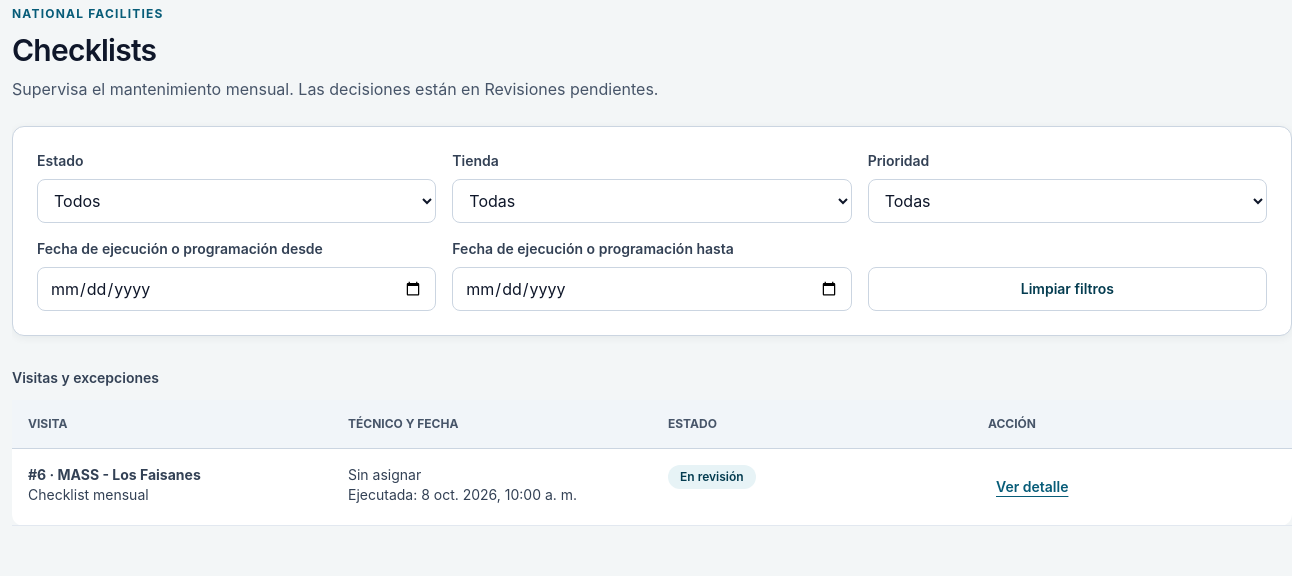
Test case: fecha y filtro de pending_approval distinguen ejecución real de programación
The width and height of the screenshot is (1292, 576).
Select "Finalizado" in the dropdown labelled "Estado": [237, 201] box [37,179,436,223]
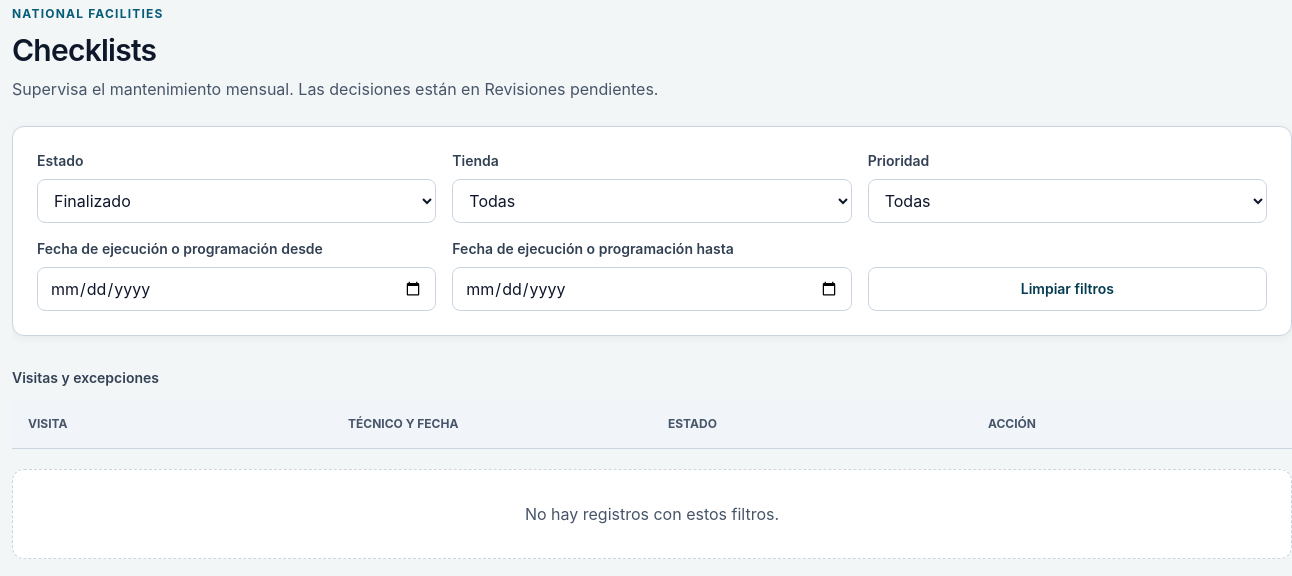
Expected: no links "Ver detalle" are shown
Select "En revisión" in the dropdown labelled "Estado": [237, 201] box [37,179,436,223]
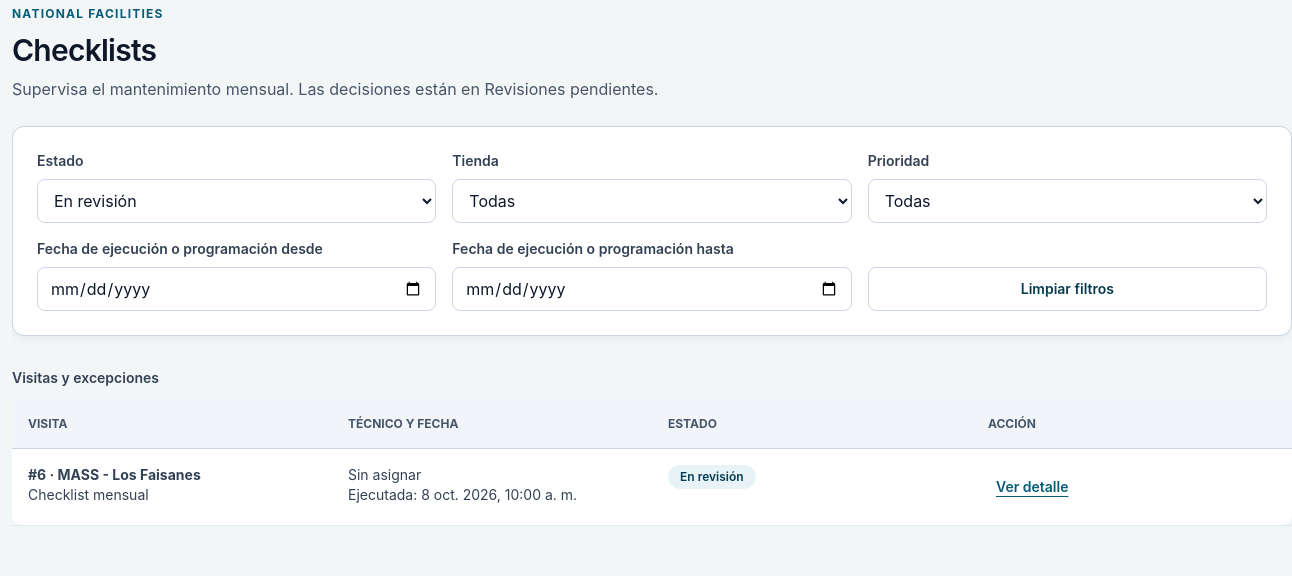
In the date field labelled "Fecha de ejecución o programación desde": [237, 289] box [37,267,436,311], type "2026-10-08"
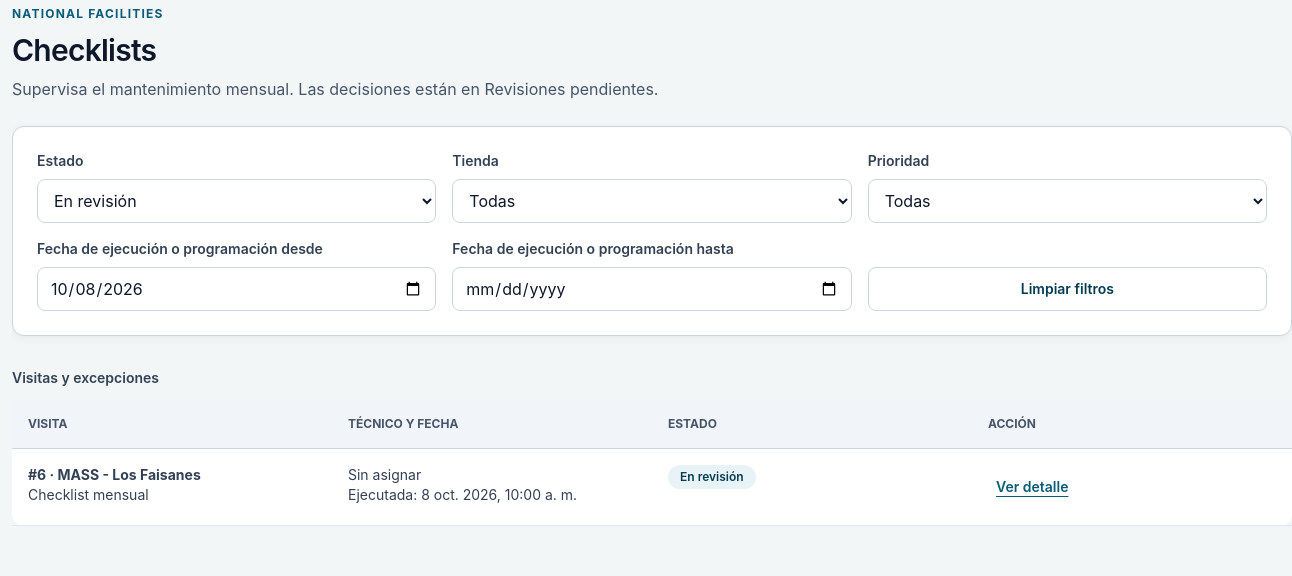
In the date field labelled "Fecha de ejecución o programación hasta": [652, 289] box [452,267,852,311], type "2026-10-08"
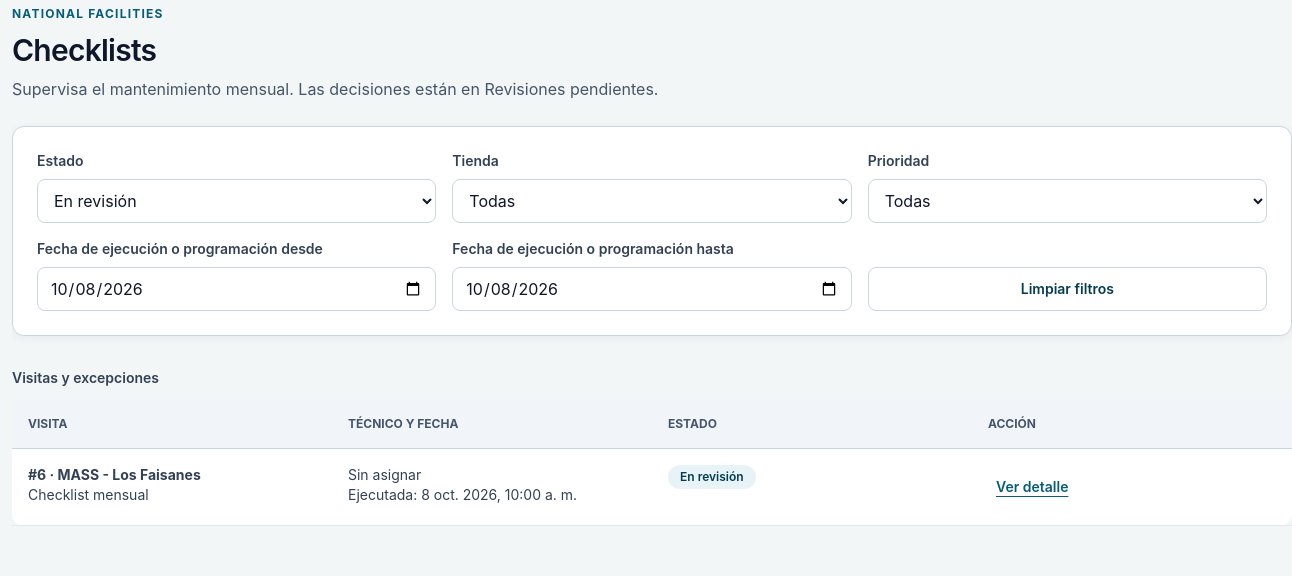
In the date field labelled "Fecha de ejecución o programación desde": [237, 289] box [37,267,436,311], type "2026-10-09"
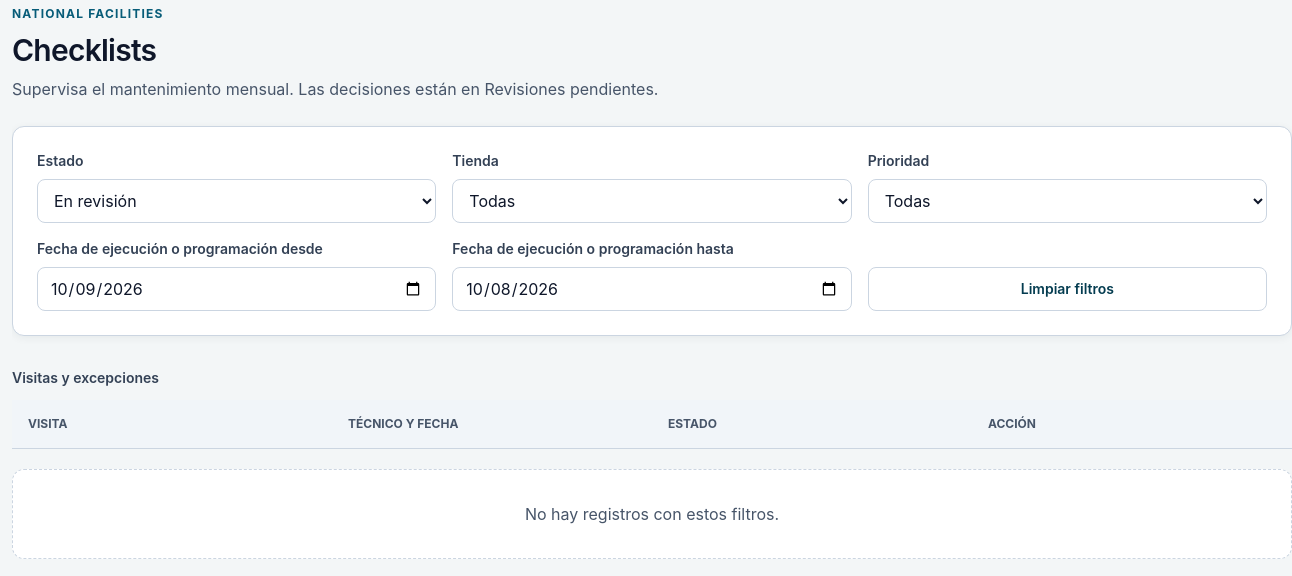
Expected: no links "Ver detalle" are shown
